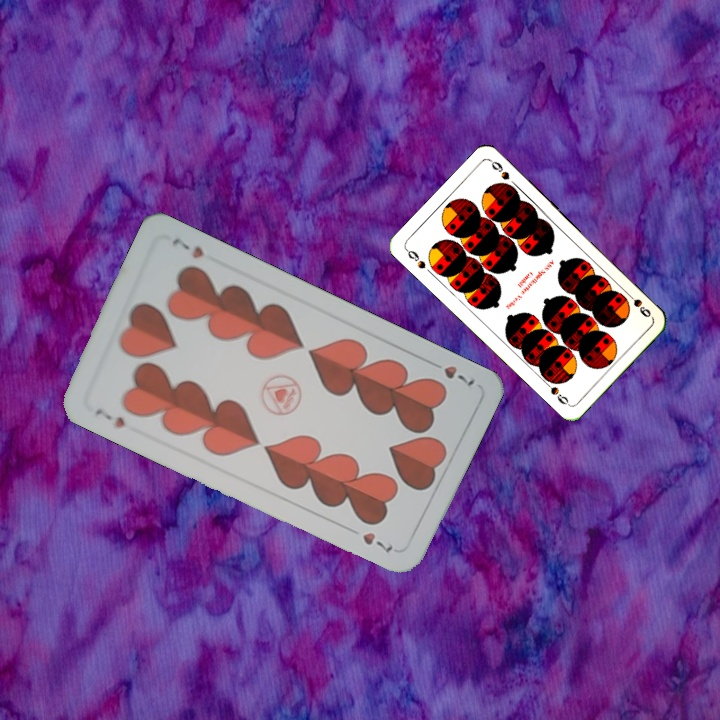H7: (424, 355, 478, 391), (91, 403, 128, 431)
S9: (621, 288, 654, 320), (402, 245, 428, 271)
